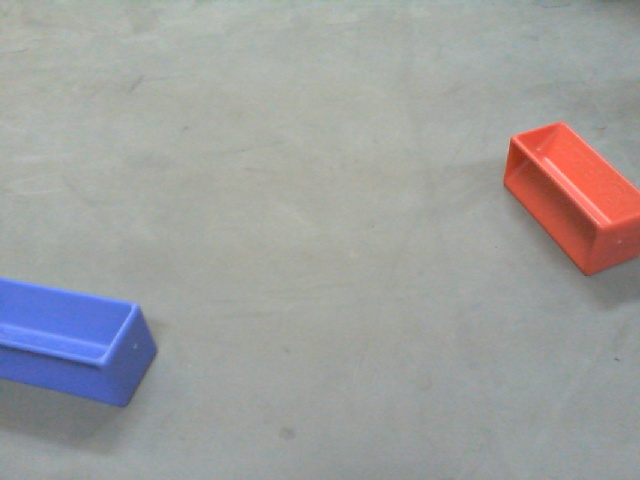BlueSample: (1, 273, 162, 410)
RedSample: (503, 120, 640, 274)
